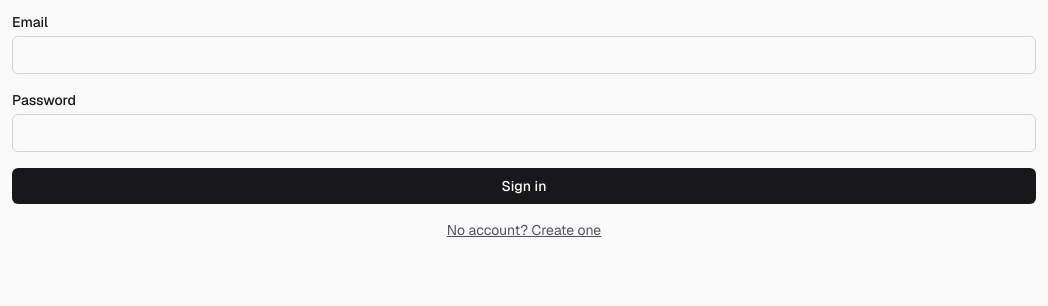
Test: login › submits credentials, keeps the email after an error, and shows confirmations
The image size is (1048, 306).
Step 1. Type "inspector@example.com" into the field labelled "Email" → (524, 55), box [12,36,1036,74]
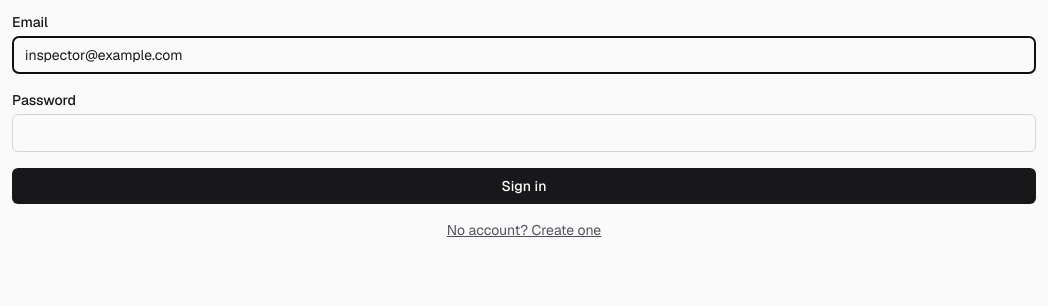
Step 2. Type "wrong-horse" into the password field labelled "Password" → (524, 133), box [12,114,1036,152]
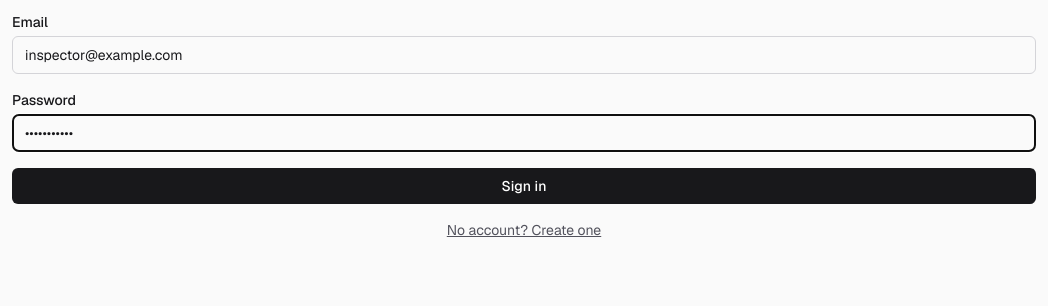
Step 3. Click the button "Sign in" → (524, 186), box [12,168,1036,204]
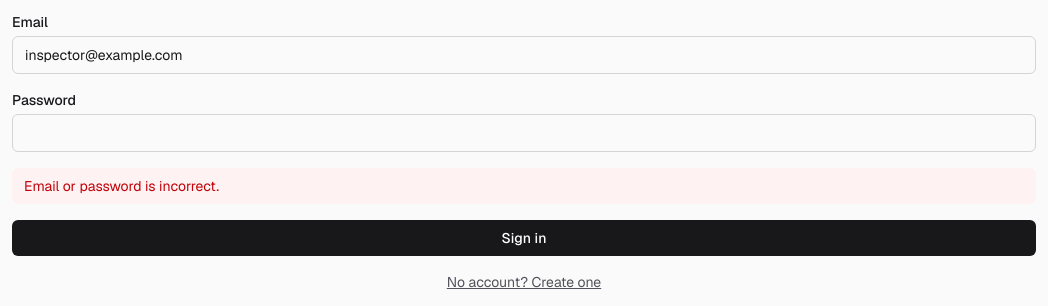
Expected: the message reads "Email or password is incorrect.", [24,177,219,195]
Step 4. Type "correct-horse" into the password field labelled "Password" → (524, 133), box [12,114,1036,152]
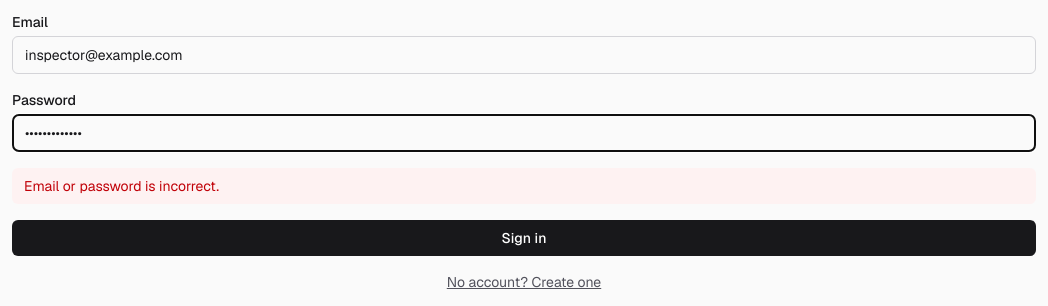
Step 5. Click the button "Sign in" → (524, 238), box [12,220,1036,256]
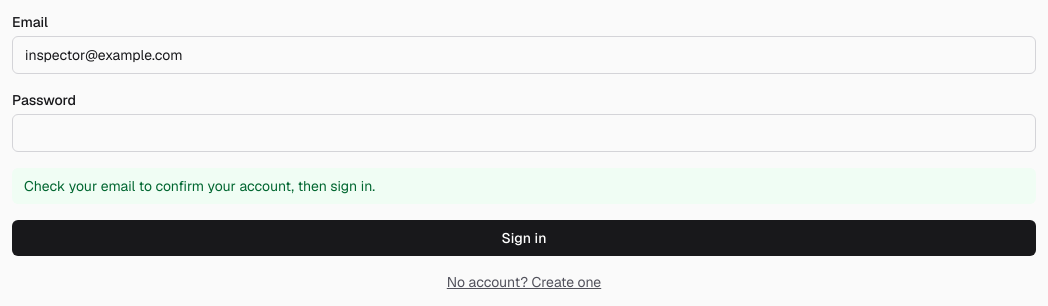
Expected: the message shows "Check your email", [24,177,375,195]
